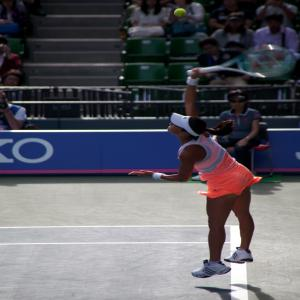TennisBall: (175, 9, 187, 19)
